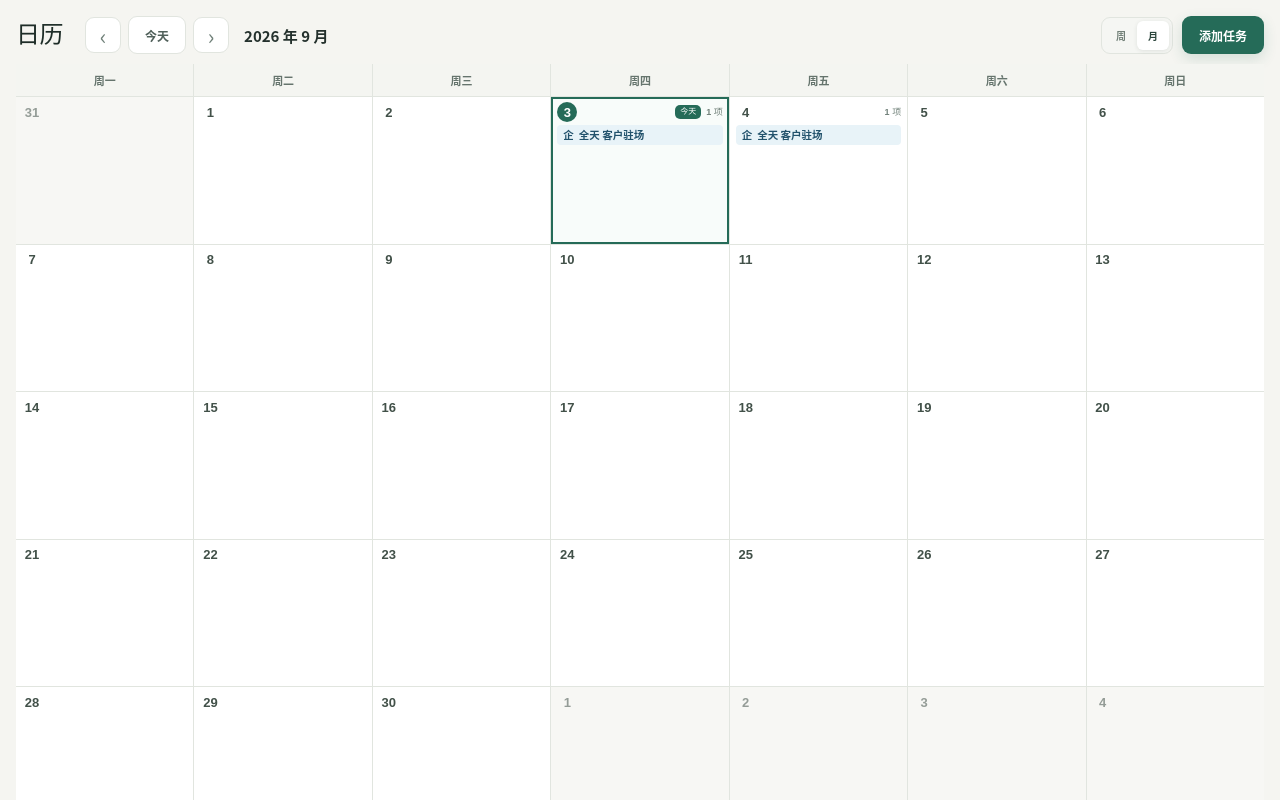
Test: CalendarPage › 多日企业微信日程会出现在覆盖到的每个日期中
Check: the number of buttons named "查看企业微信日程“客户驻场”" is 2, box [557,125,723,145]; [736,125,901,145]
Click the cell "4 1 项 企 全天 客户驻场". click: point(818, 170)
box: [730,97,907,244]
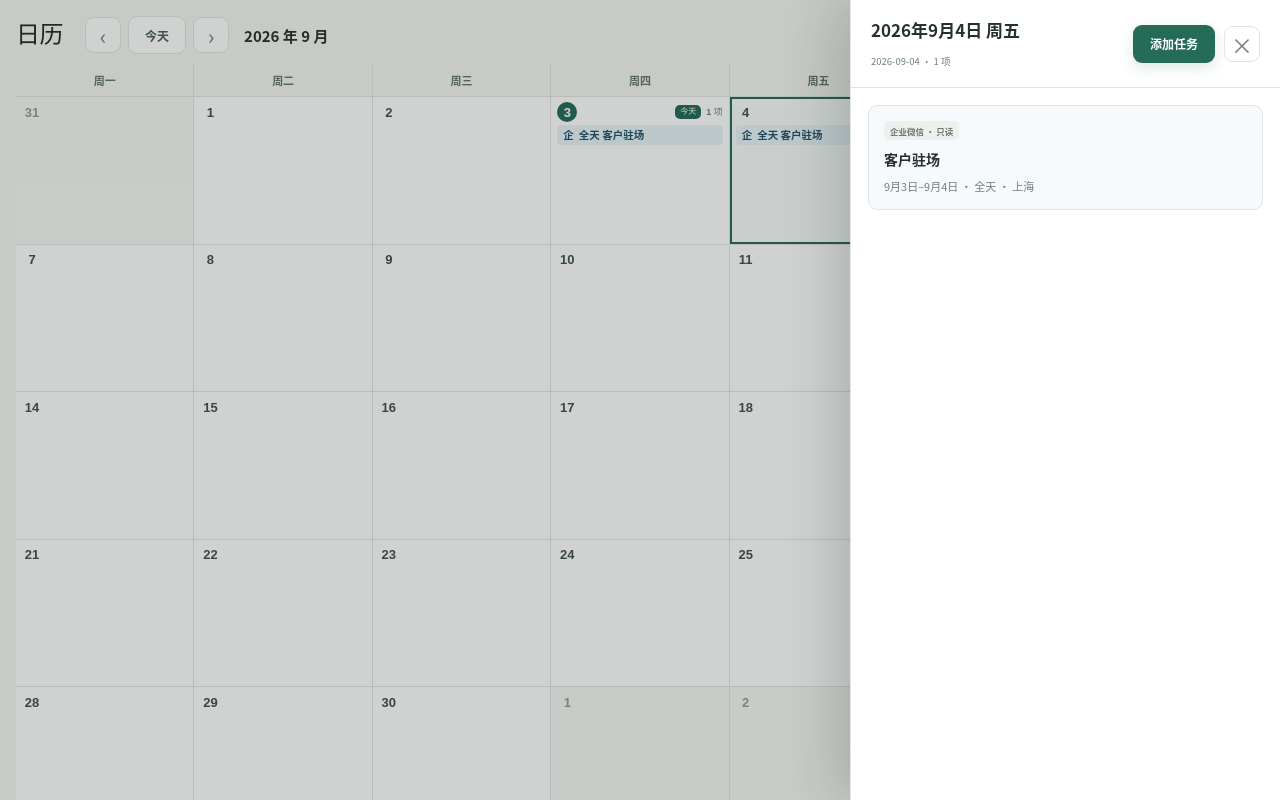
Check: the cell "5" is shown, box [908,97,1086,244]
Check: the dialog "2026年9月4日 周五" shows "客户驻场", box [884,149,940,169]
Check: the text "9月3日–9月4日 · 全天 · 上海" is shown, box [884,178,1034,194]
